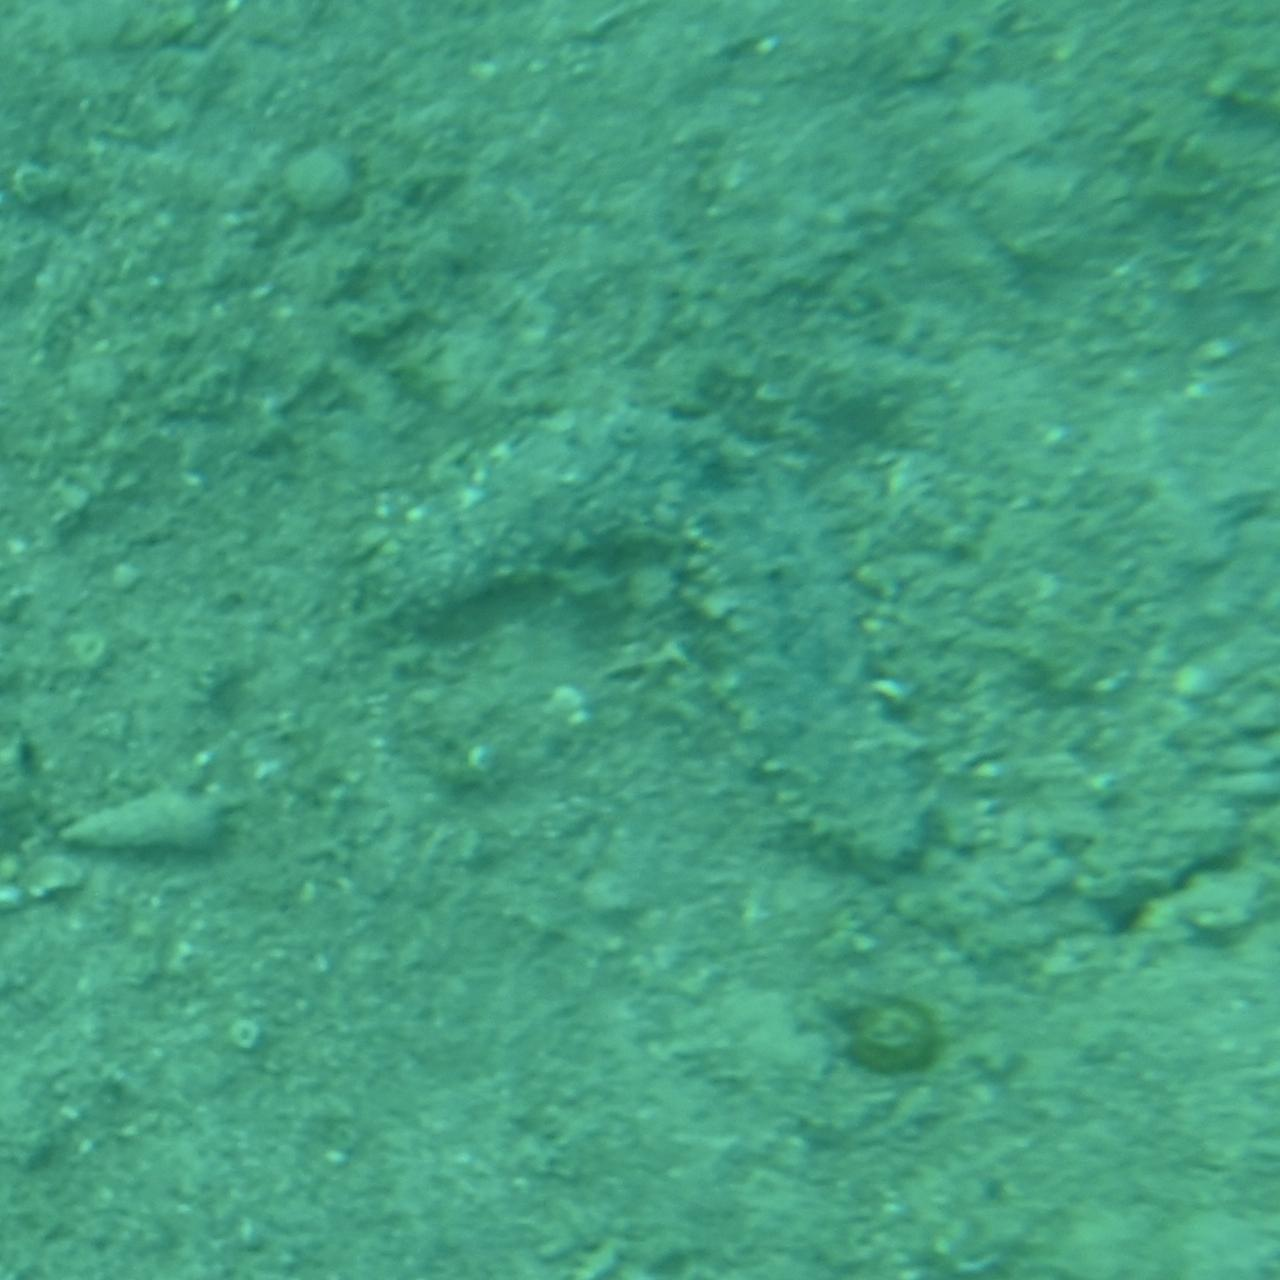Holothuria tubulosa: (348, 404, 932, 876)
